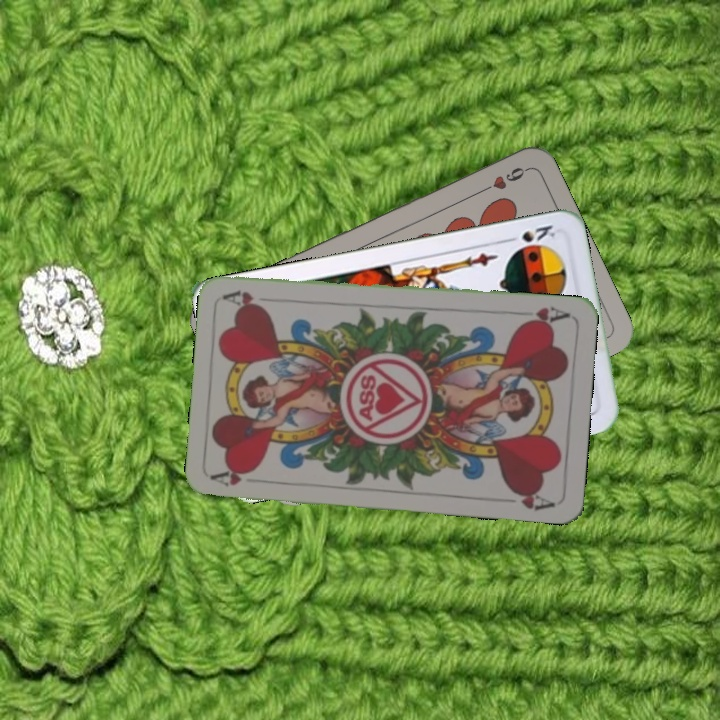H9: (475, 163, 531, 196)
HA: (512, 302, 572, 328), (209, 463, 258, 489)
SK: (501, 221, 558, 253)
